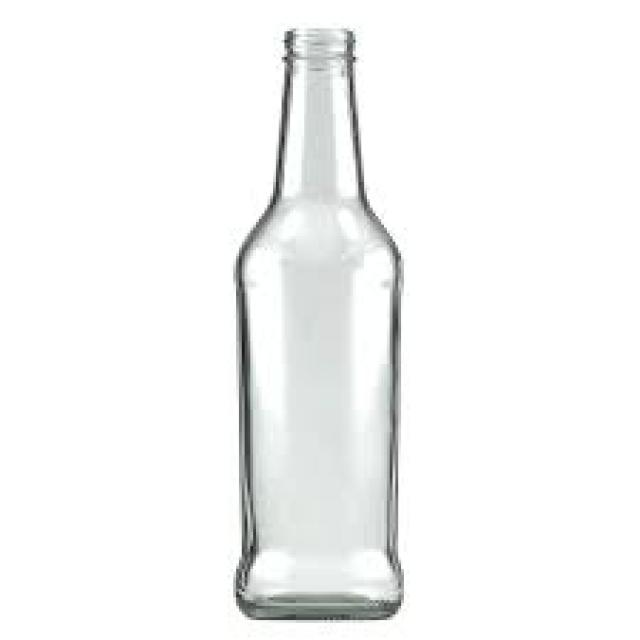glass: (230, 26, 404, 615)
